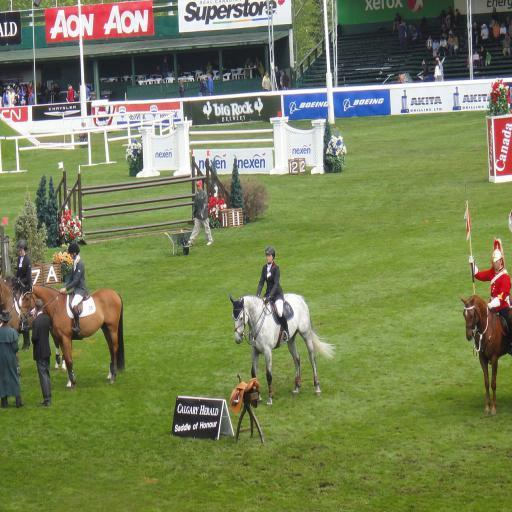horse: (228, 292, 338, 408), (16, 280, 126, 394), (0, 272, 67, 374), (462, 293, 512, 416)
